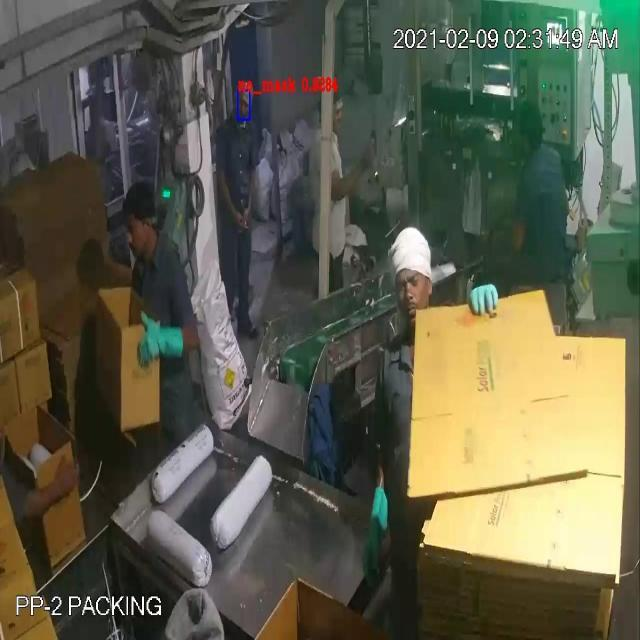Gloves: (20, 76, 374, 538)
